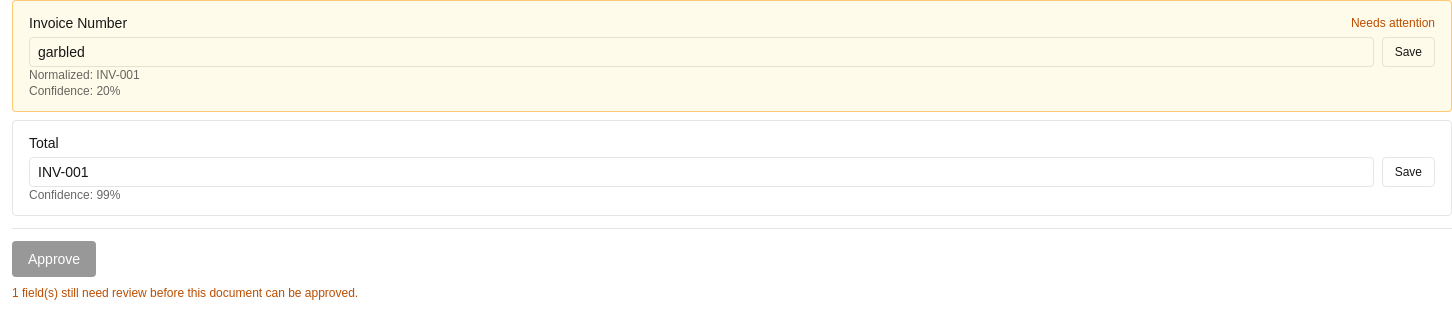
Test: ReviewPanel — corrections › saves an edited value, marking the field Corrected and clearing its flag
Replace the text in the field named "Invoice Number" with "INV-002": (701, 52) top-left (29, 37), bottom-right (1374, 67)
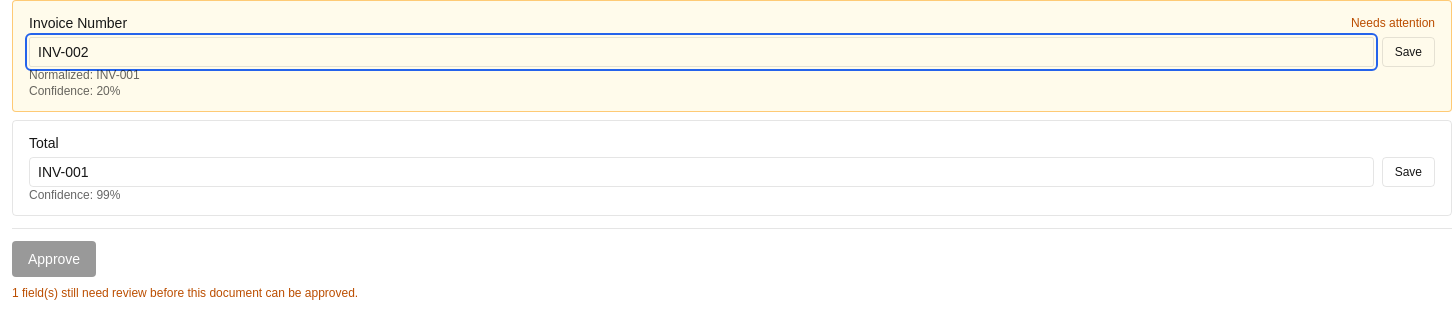
Click the button with aria-label "Save Invoice Number": (1408, 52) top-left (1382, 37), bottom-right (1435, 67)
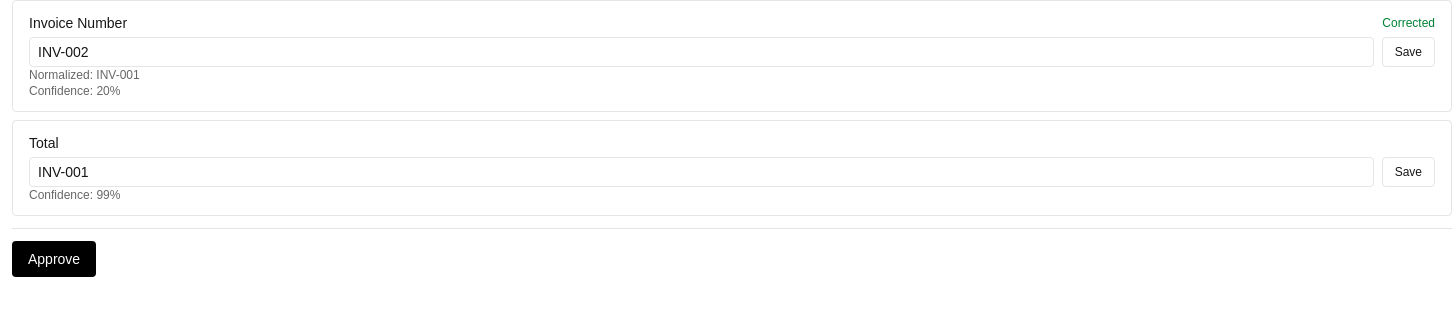
Expected: the text "Corrected" is shown, top-left (1382, 15), bottom-right (1435, 31)
Expected: the text "Needs attention" is gone
Expected: the button "Approve" is enabled, top-left (12, 241), bottom-right (96, 277)
